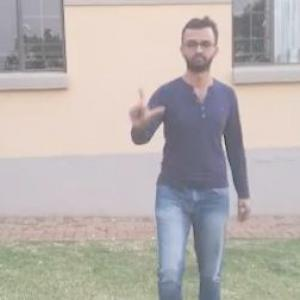land_hand: (122, 78, 164, 134)
